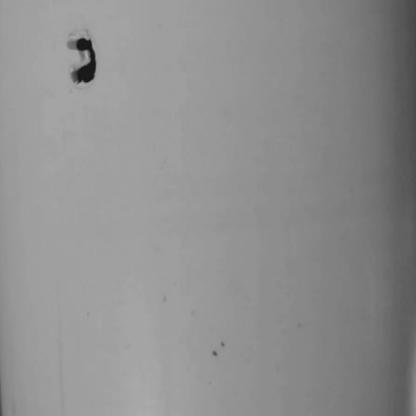kongdong: (53, 31, 109, 87)
